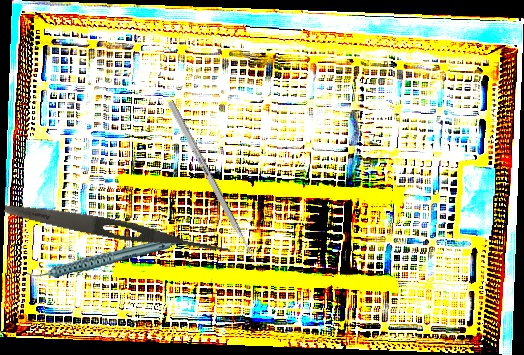Dressing Forceps: (3, 199, 232, 259)
Handpiece: (27, 238, 177, 278)
Pusher: (166, 100, 264, 273)
